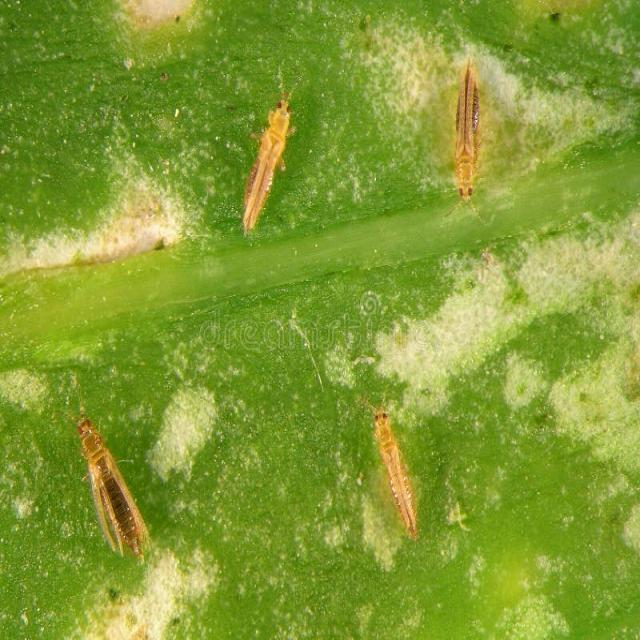Thrip-Adult-: (215, 62, 319, 268), (75, 413, 157, 567), (370, 397, 424, 549), (454, 40, 490, 231)
